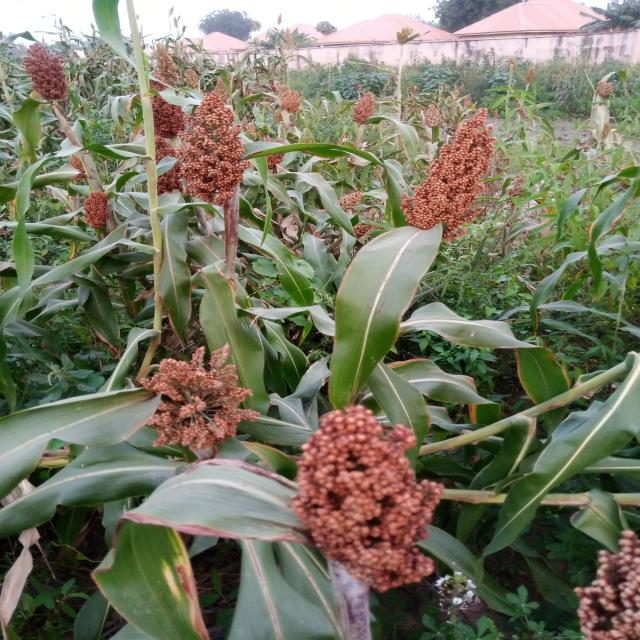RipeSorghum: (289, 404, 470, 619), (385, 75, 505, 240)
